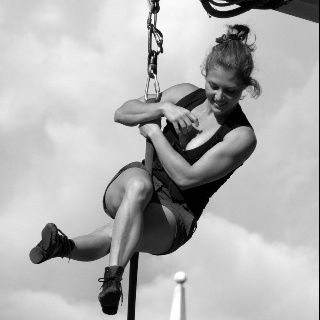without_mask: (204, 66, 245, 114)
